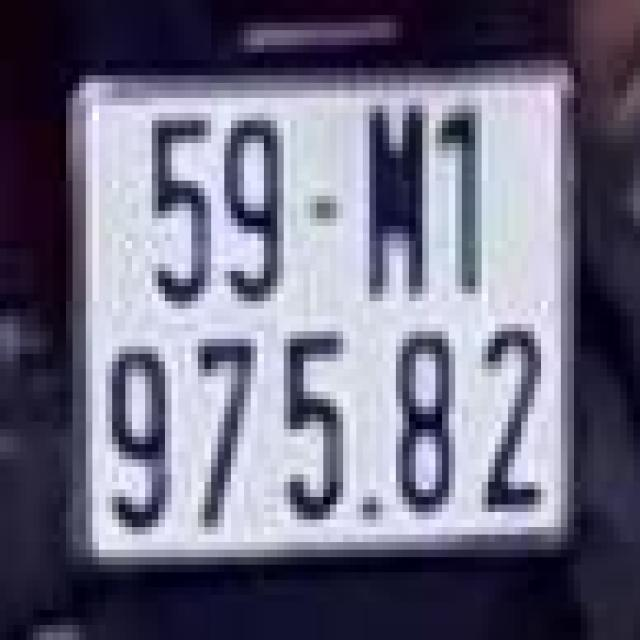1: (436, 94, 502, 313)
2: (472, 316, 558, 520)
5: (277, 309, 363, 527), (138, 109, 224, 320)
7: (185, 339, 264, 542)
8: (383, 328, 462, 524)
9: (96, 335, 175, 546), (218, 113, 297, 309)
M: (350, 90, 436, 302)
